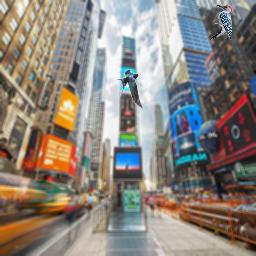Swallow: (115, 69, 143, 109)
Woodpecker: (208, 3, 234, 43)
